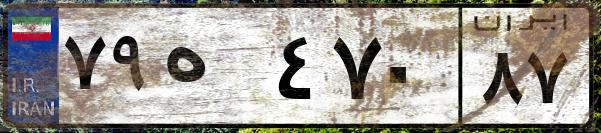0: (385, 28, 445, 110)
4: (270, 28, 330, 110)
7: (330, 28, 385, 110), (57, 26, 110, 100), (525, 38, 570, 115)
8: (475, 38, 525, 113)
9: (110, 28, 158, 98)
ه: (158, 20, 270, 120)
